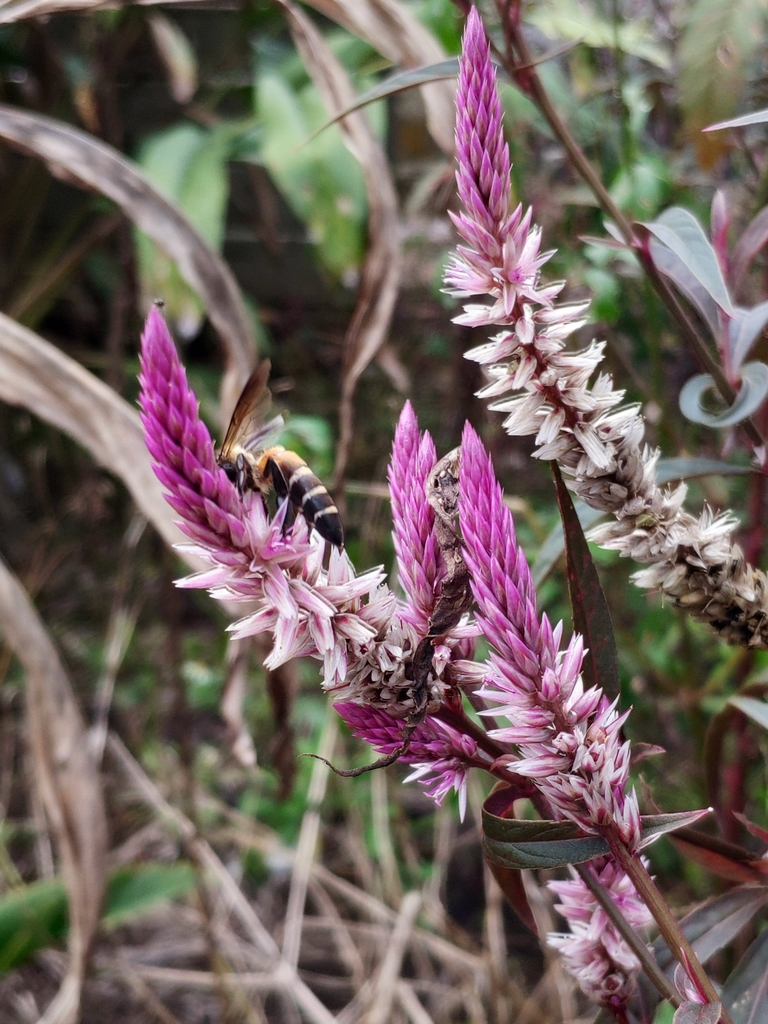not_bumblebee: (214, 357, 348, 558)
